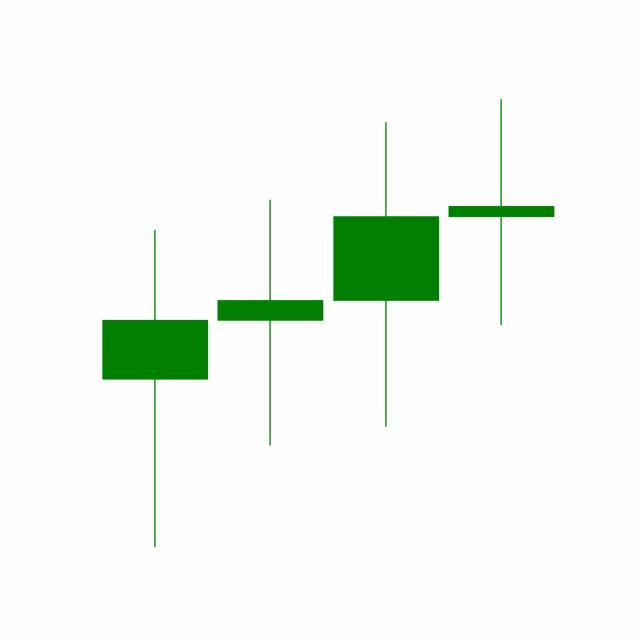Spinning Top: (444, 97, 560, 329)
